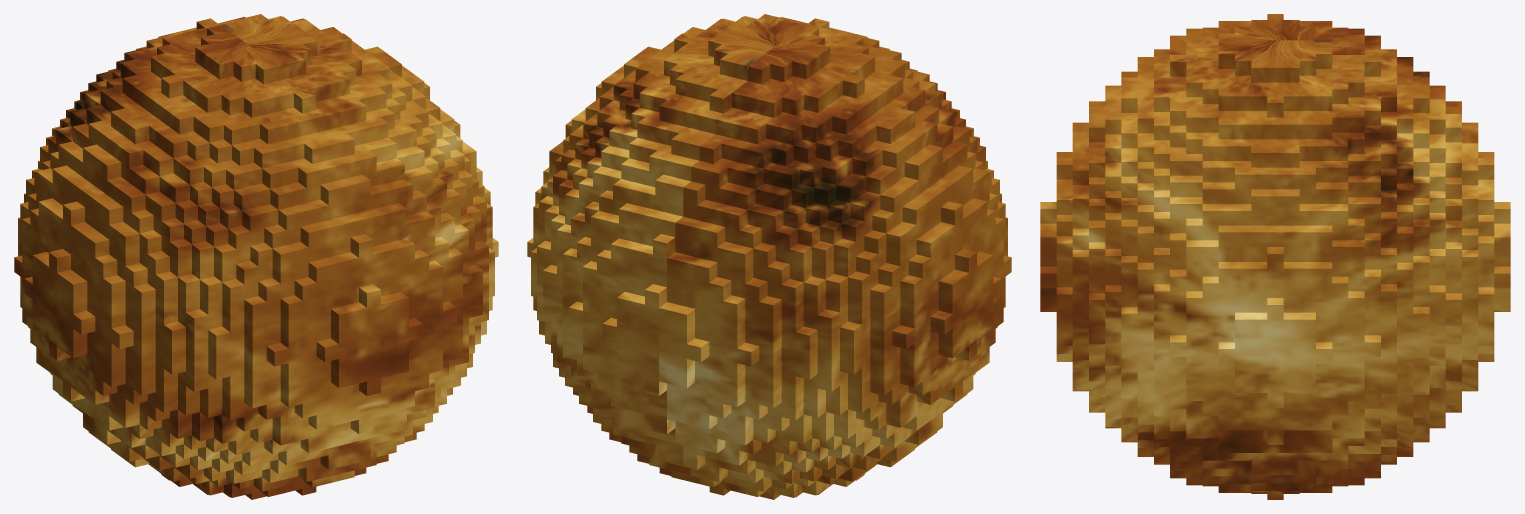
Rendered from 02_Venus.fbx.
3 renders of one model, left to right at view 1: azimuth 30°, elevation 25°; view 2: azimuth 150°, elevation 25°; view 3: azimuth 270°, elevation 25°, orthographic.
Parts seen in each view (by area): view 1: 02_Venus; view 2: 02_Venus; view 3: 02_Venus.
Part boxes in pixels (x1,y1,x2,y2): 02_Venus: (14, 14, 498, 499); 02_Venus: (527, 14, 1011, 499); 02_Venus: (1040, 14, 1510, 499).
Size of the model in its own units: 80.56 by 80.56 by 80.56.
Materials: 1 (1 with a texture image).
